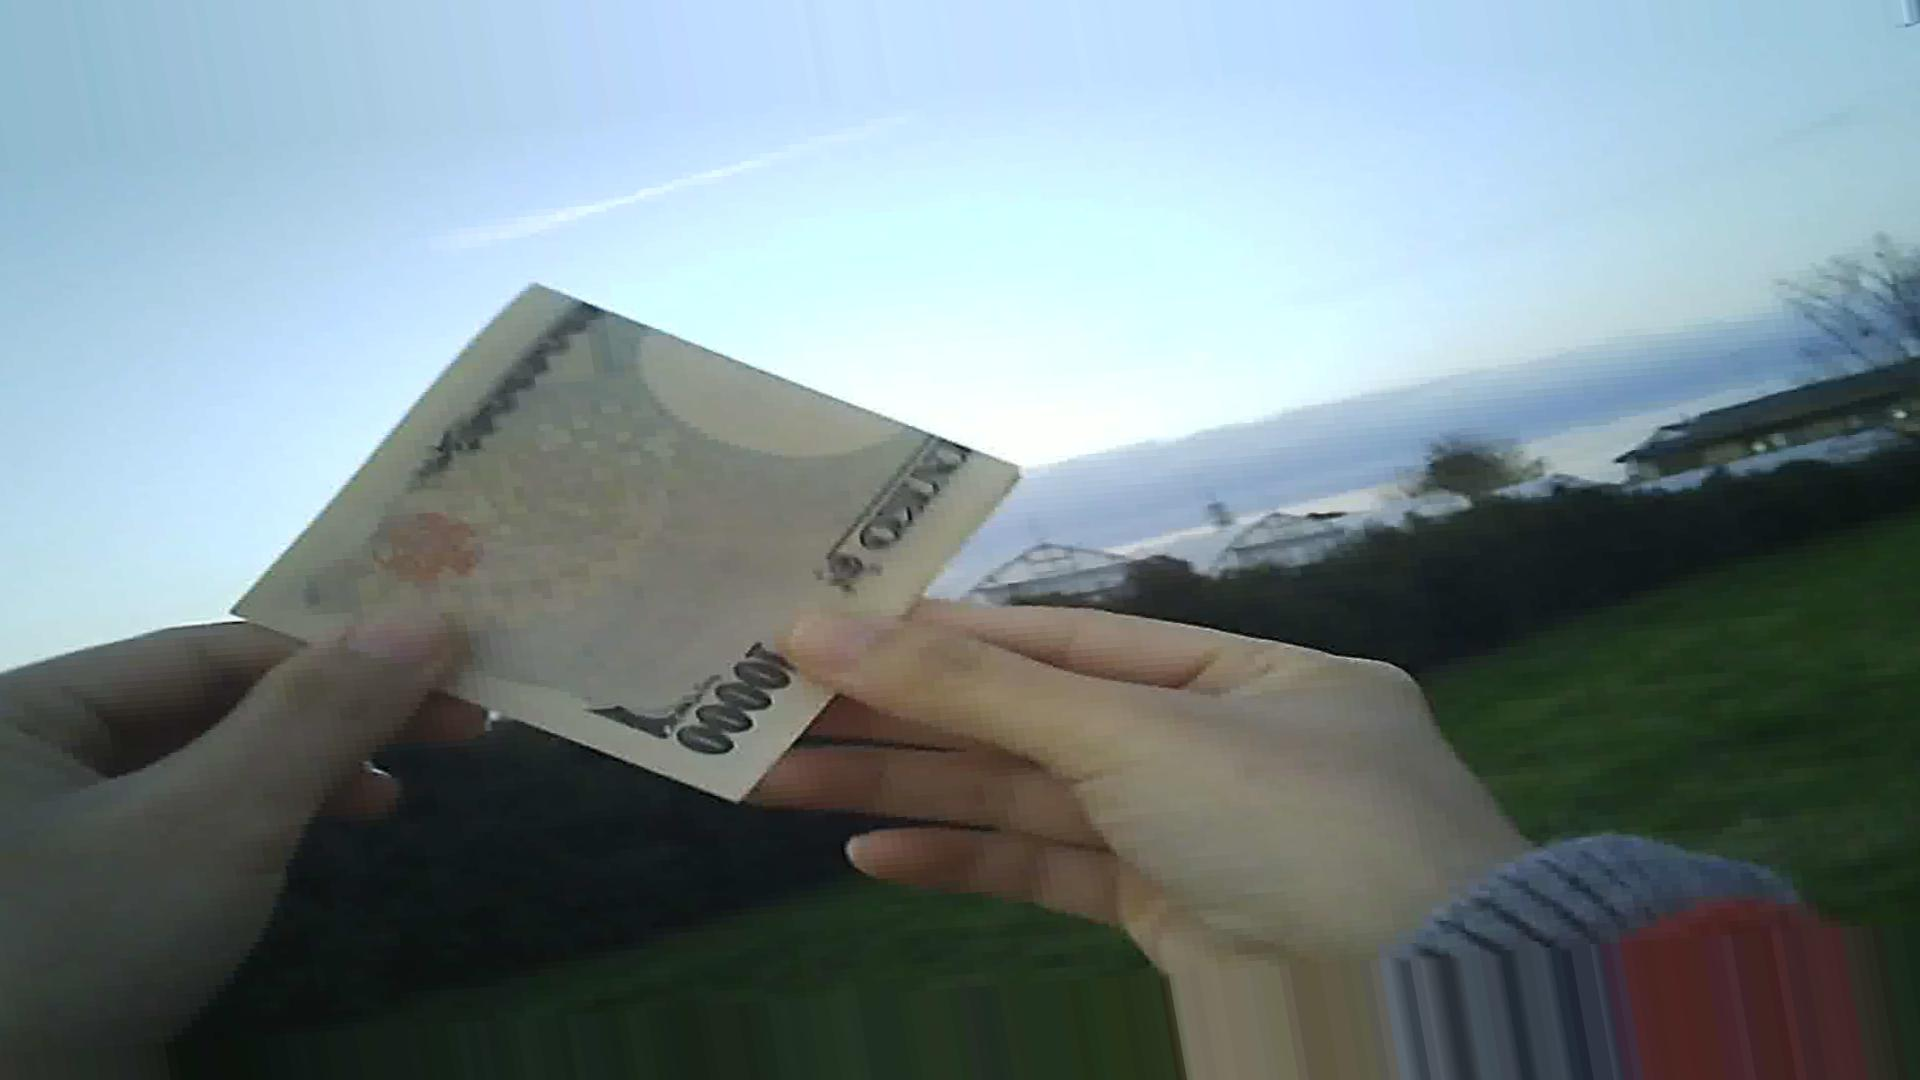10,000 Yen: (223, 287, 1056, 852)
